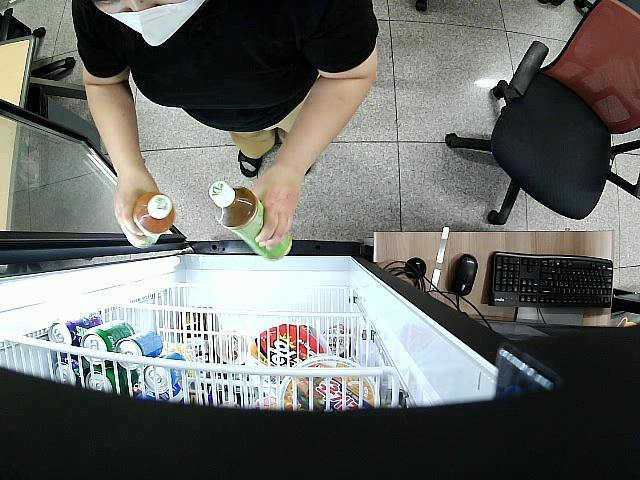00_hand: (241, 174, 294, 251), (111, 177, 166, 249)
19_17cha: (206, 179, 291, 263), (130, 189, 176, 243)
